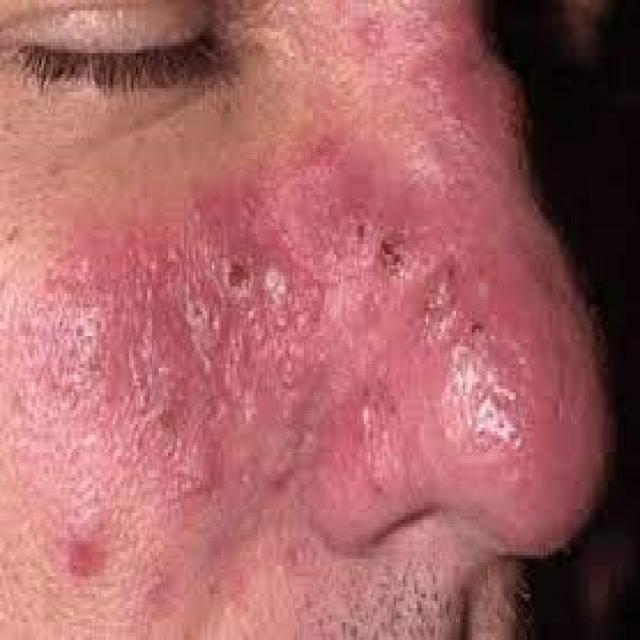Rosacea: (19, 0, 600, 572)
